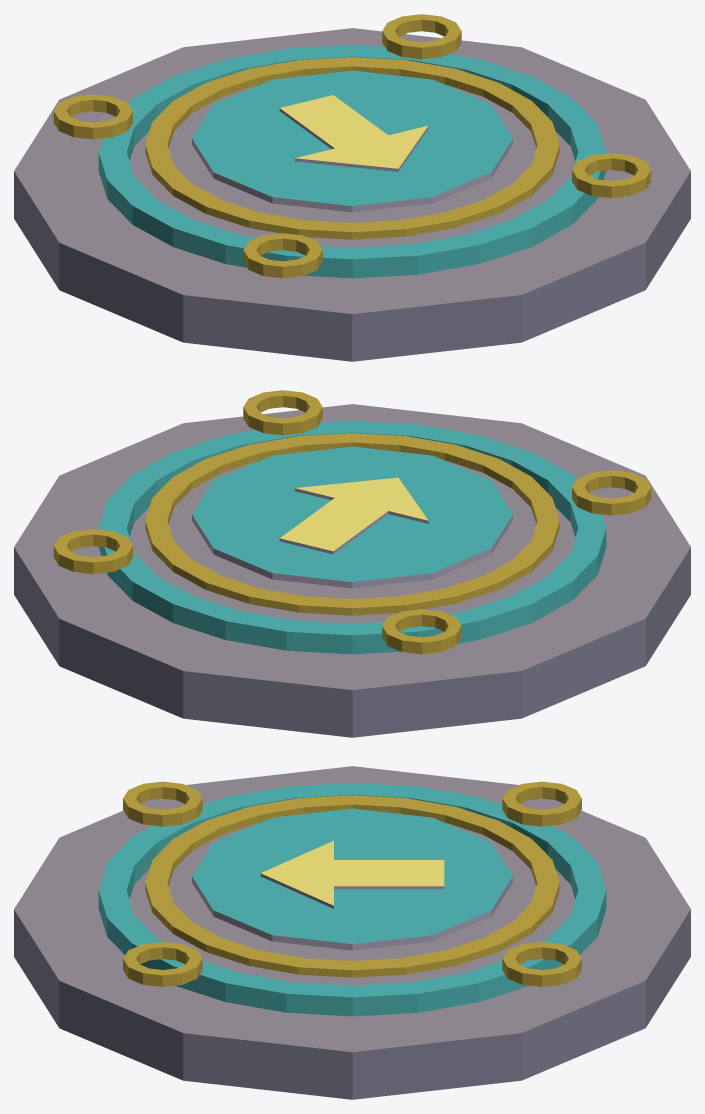
The model's file is star_garden_trampoline_platform.obj.
The picture shows the model from 3 angles, top to bottom: view 1: azimuth 30°, elevation 25°; view 2: azimuth 150°, elevation 25°; view 3: azimuth 270°, elevation 25°; orthographic projection.
Parts seen in each view (by area): view 1: star_garden_trampoline_platform; view 2: star_garden_trampoline_platform; view 3: star_garden_trampoline_platform.
Part boxes in pixels (x1,y1,x2,y2): star_garden_trampoline_platform: (14,14,690,361); star_garden_trampoline_platform: (14,390,690,737); star_garden_trampoline_platform: (14,766,690,1099).
Bounding box in the file's own units: 11.6 × 1.58 × 11.6.
